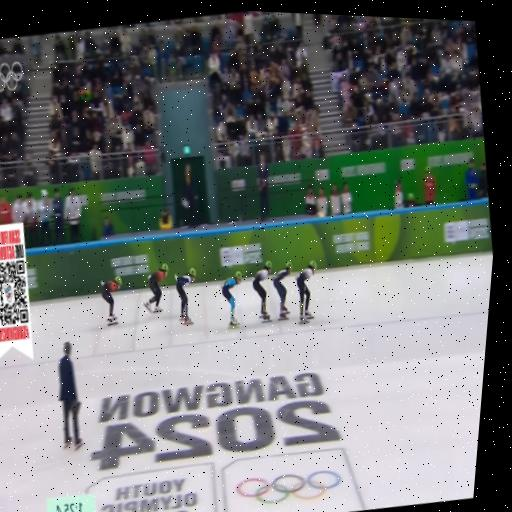Skater: (296, 261, 316, 324), (174, 267, 195, 325), (144, 264, 168, 313), (271, 262, 291, 320), (221, 271, 241, 328), (252, 262, 270, 321), (100, 276, 121, 325)
